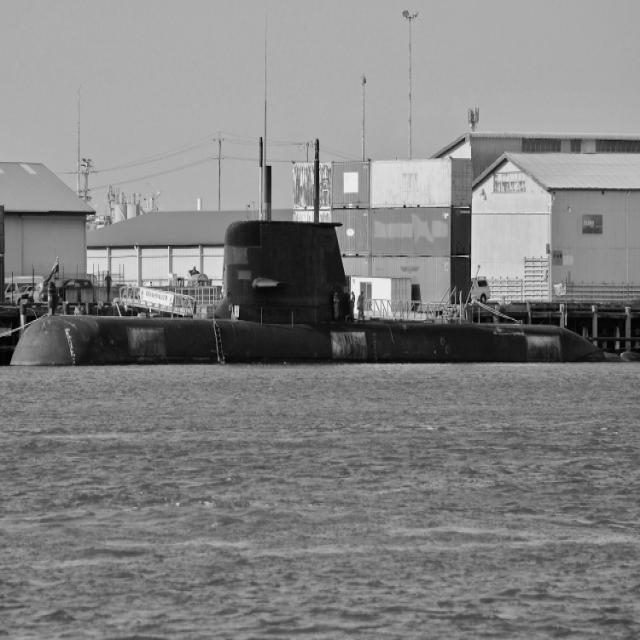submarine: (17, 136, 625, 361)
